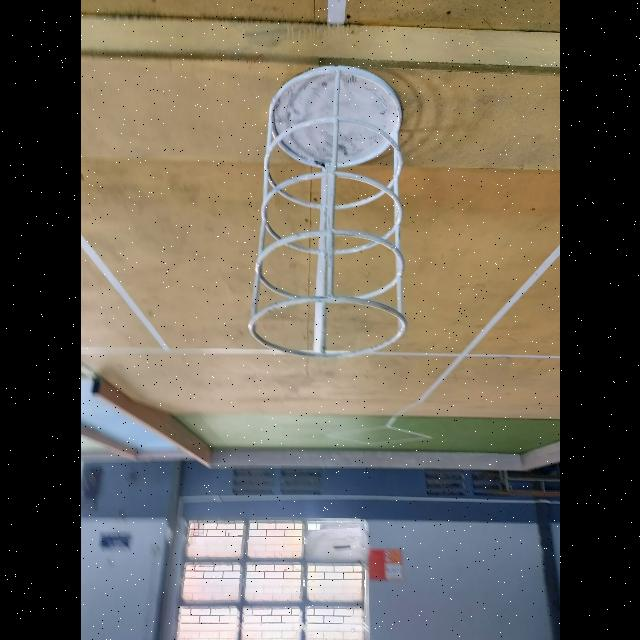S: (244, 61, 409, 360)
